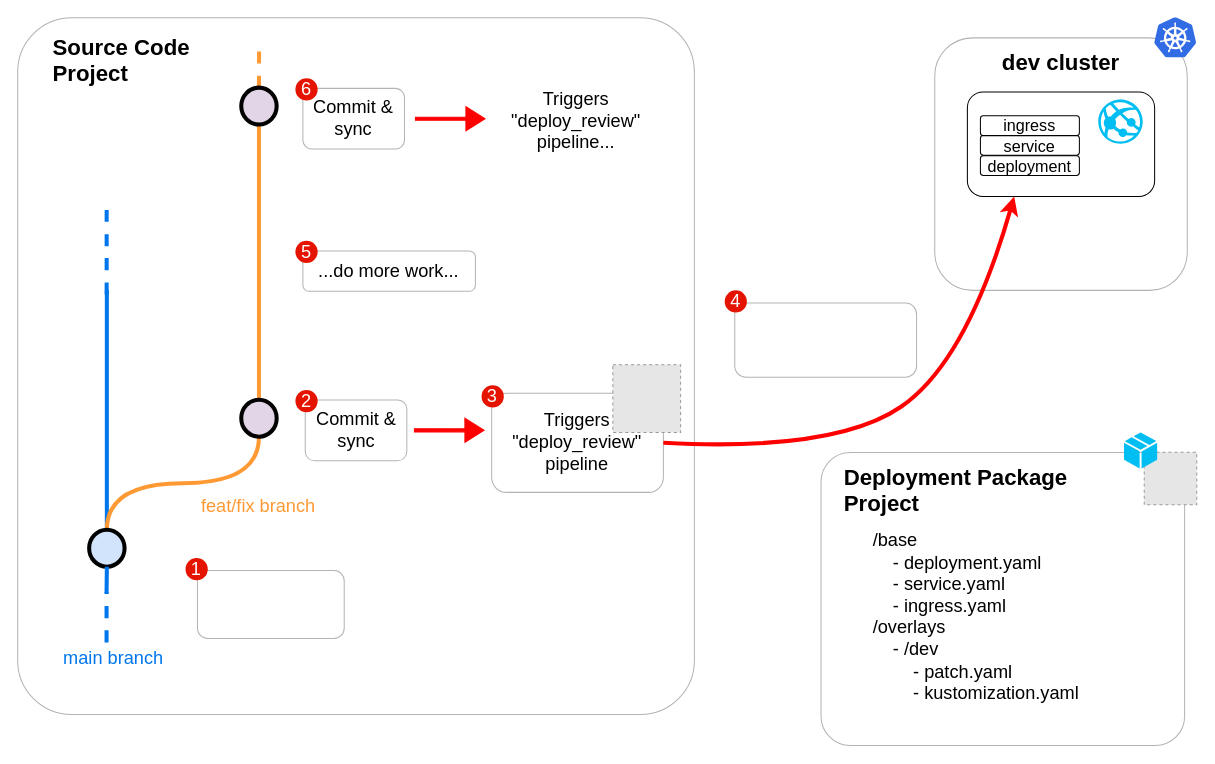
Some shapes in this 1215 by 764 pixel diagram are drawn without their labels. Grey dashed boxes stand in for pictures. Here are the shapes that lost their labels. From the top down, the centre of each, then its label:
At point (825, 339): "Applies Deployment Package to dev cluster".
At point (270, 604): "Create issue, merge request, and branch".
